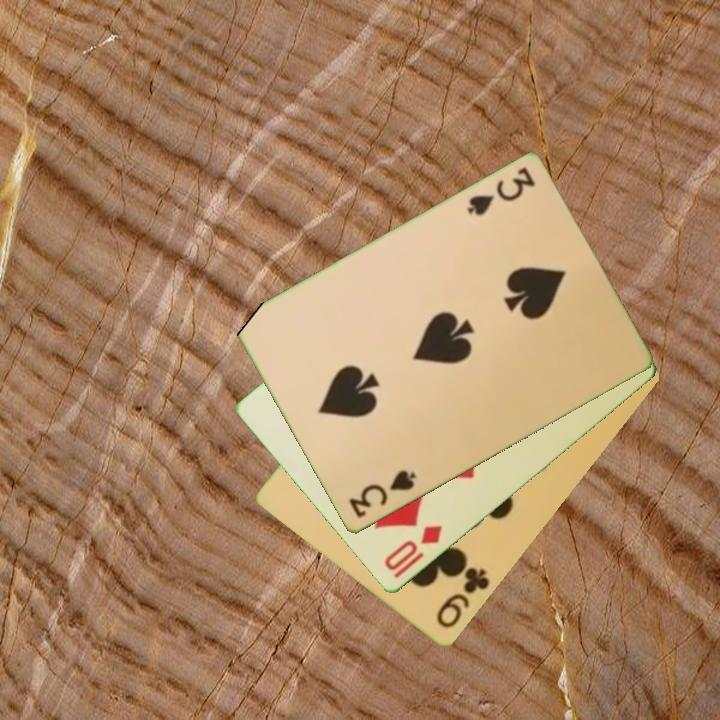10d: (380, 522, 446, 582)
3s: (463, 164, 538, 220), (345, 466, 419, 522)
9c: (433, 563, 493, 632)
